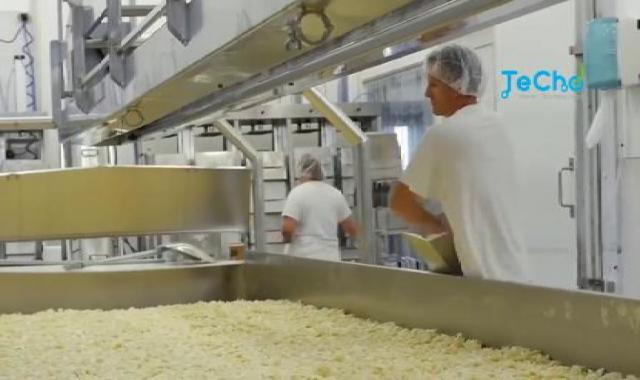hairnet: (406, 38, 486, 106), (292, 149, 336, 191)
